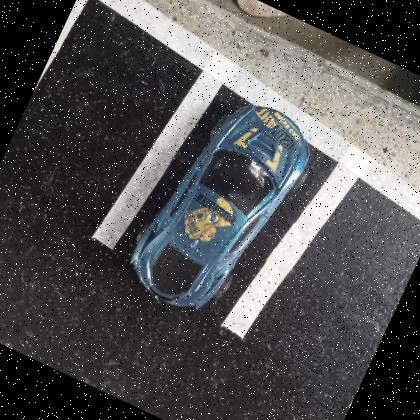Car: (131, 104, 310, 309)
